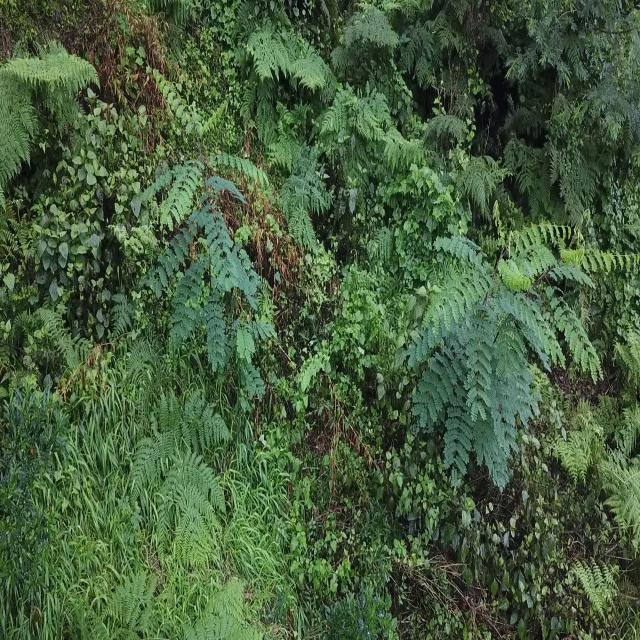Mysore-Thorn-Weed: (392, 222, 590, 486), (134, 71, 275, 417)
